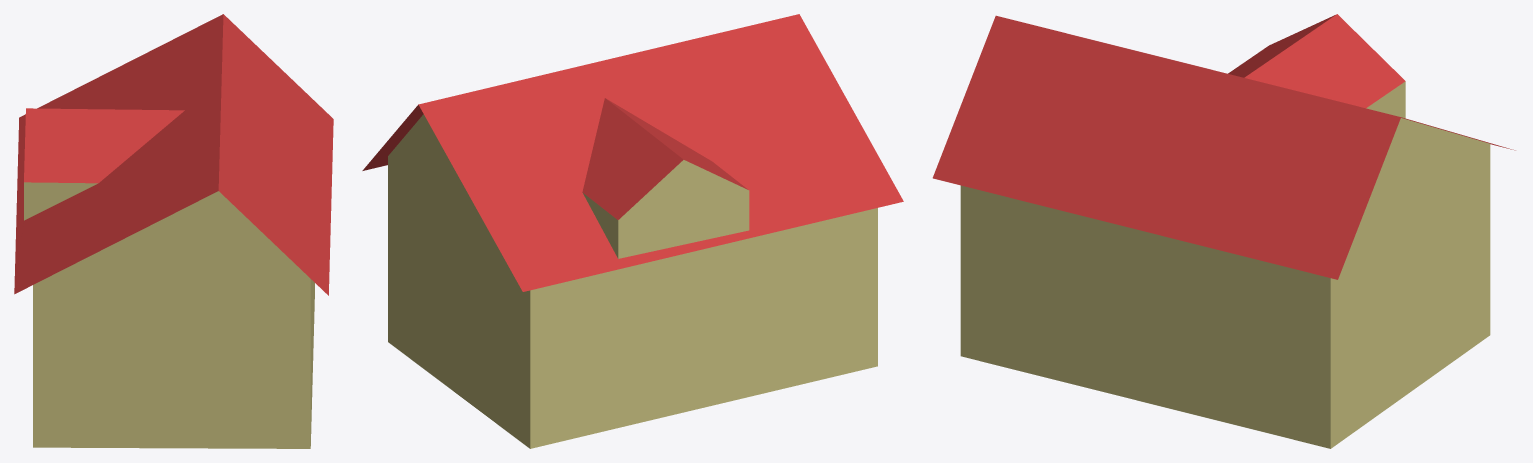
3 renders of one model, left to right at view 1: azimuth 30°, elevation 25°; view 2: azimuth 150°, elevation 25°; view 3: azimuth 270°, elevation 25°, orthographic. The views are drawn at different scales.
Visible parts, largest first — view 1: group_7, group_3, group_4, group_6, group_5; view 2: group_7, group_3, group_5, group_4, group_6; view 3: group_7, group_3, group_4, group_6, group_5.
Part boxes in pixels (x1,y1,x2,y2): group_7: [33, 191, 314, 448]; group_3: [14, 14, 333, 295]; group_4: [24, 108, 184, 183]; group_6: [14, 15, 333, 293]; group_5: [24, 182, 97, 220]; group_7: [388, 114, 877, 448]; group_3: [362, 14, 903, 291]; group_5: [582, 160, 749, 258]; group_4: [582, 98, 747, 219]; group_6: [364, 14, 901, 291]; group_7: [960, 118, 1490, 448]; group_3: [932, 15, 1515, 279]; group_4: [1228, 14, 1405, 108]; group_6: [933, 17, 1505, 278]; group_5: [1366, 81, 1405, 118].
Size of the model in its own units: 26.45 by 28.44 by 15.99.
